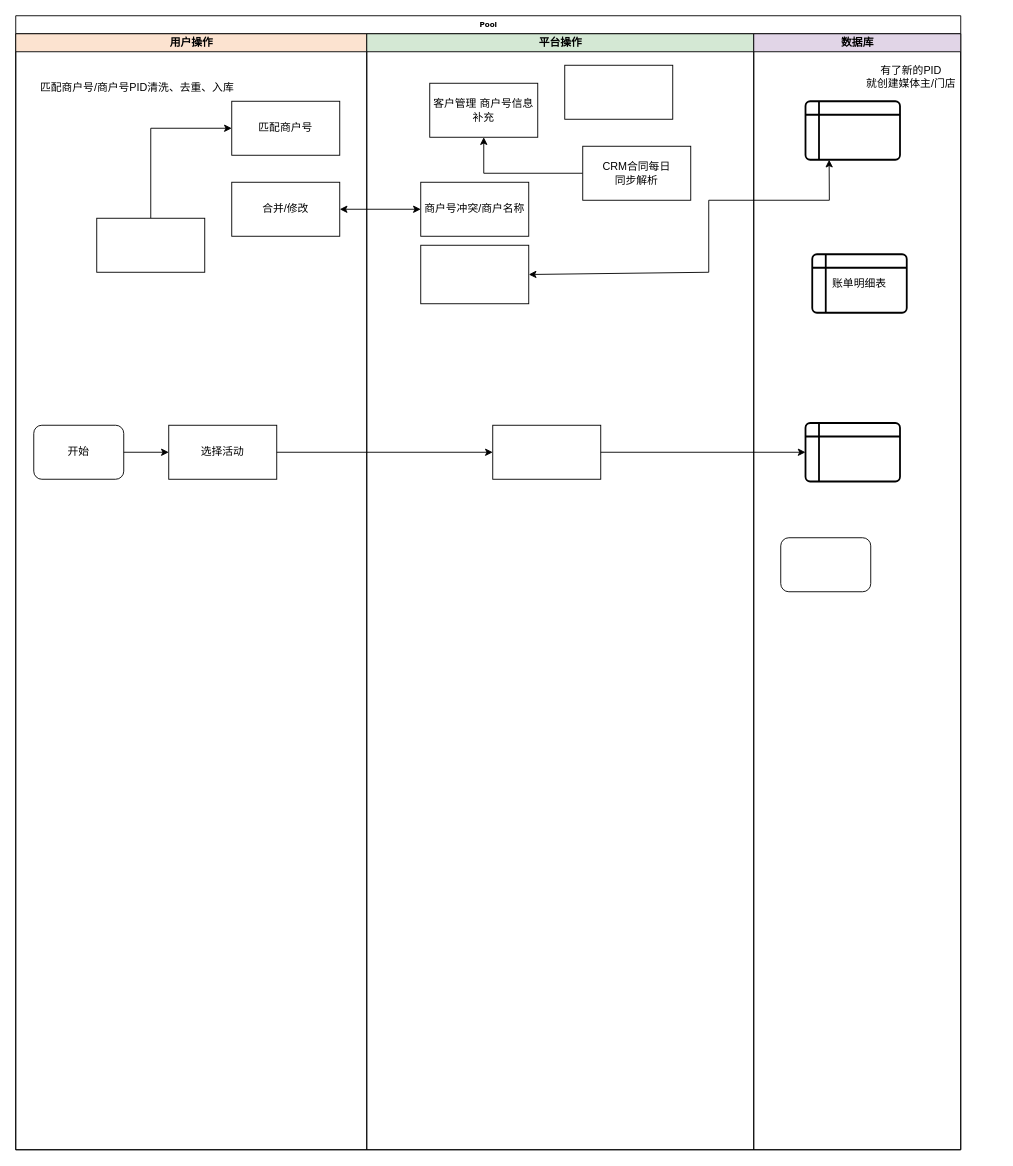
This 1013x1166 diagram has some shape labels left out. Here are the shapes that lost their labels. From the top down, the centre of each, then its label:
point 618,91: 制券商 手工新增
point 852,130: 活动和批次下 的商户表
point 150,244: 补充商户号
point 474,274: 账单未能匹配 商户号
point 546,451: 活动列表
point 852,452: 活动表 批次表
